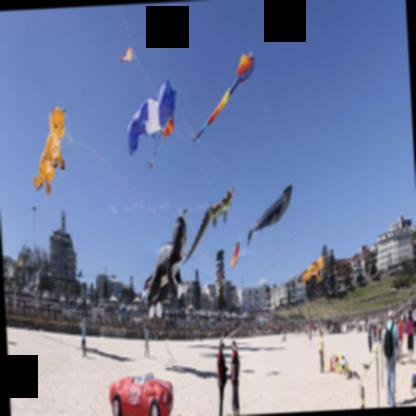backpack: (383, 320, 395, 364), (234, 351, 240, 379), (413, 310, 416, 336)
